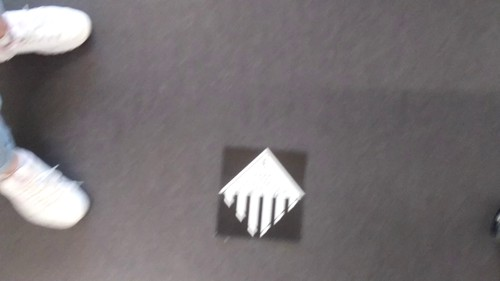misgoods: (214, 156, 312, 235)
